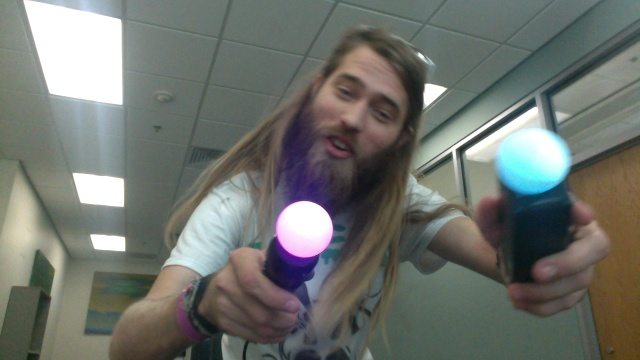wand: (499, 128, 568, 196), (277, 202, 334, 256)
